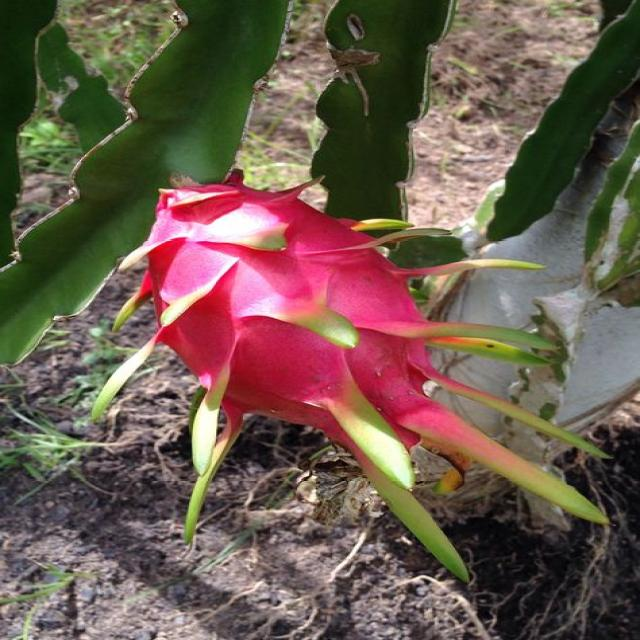Thanh Long: (106, 176, 585, 589)
